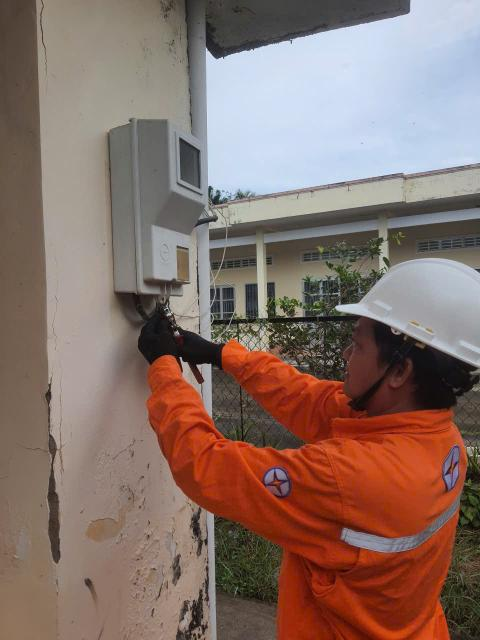gloves: (167, 309, 242, 374), (128, 312, 186, 368)
helmet: (330, 219, 480, 376)
